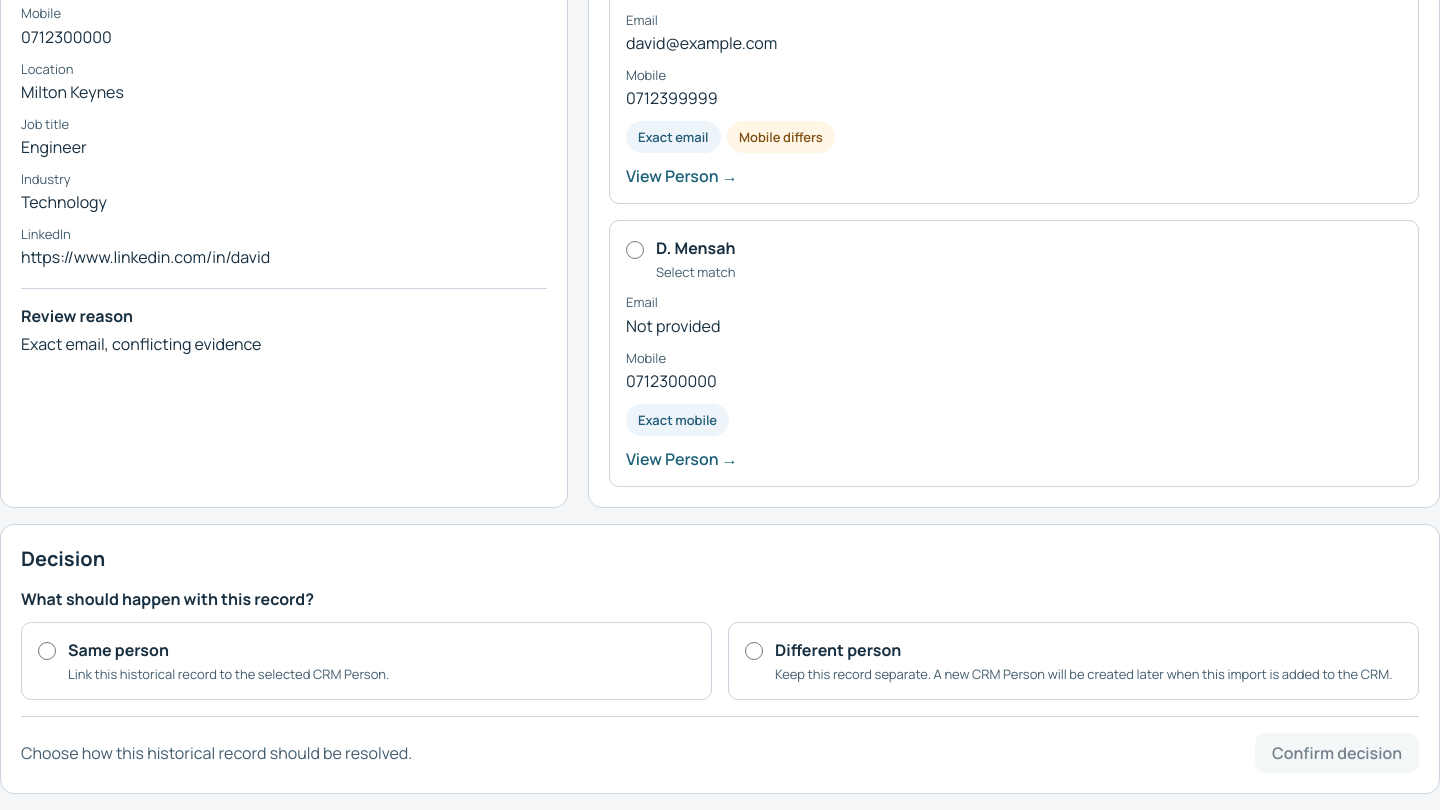
Scenario: ImportReviewPageComponent › displays a safe stale-review conflict without hiding the review record
(page scrolled)
Click the radio button named "decision" at (754, 651), box [745,642,763,660]
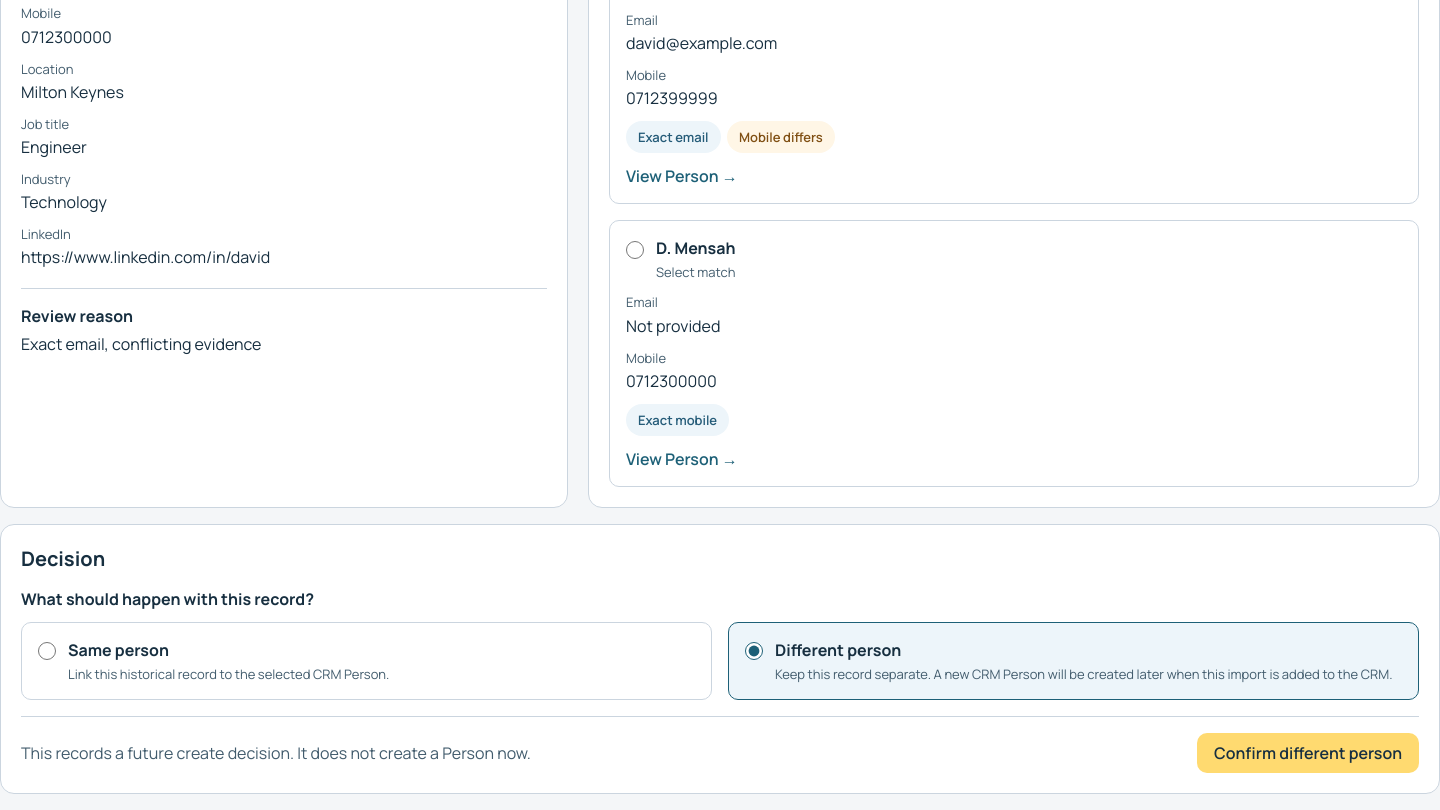
Click the button with class "confirm-decision" at (1308, 753), box [1197,733,1419,773]
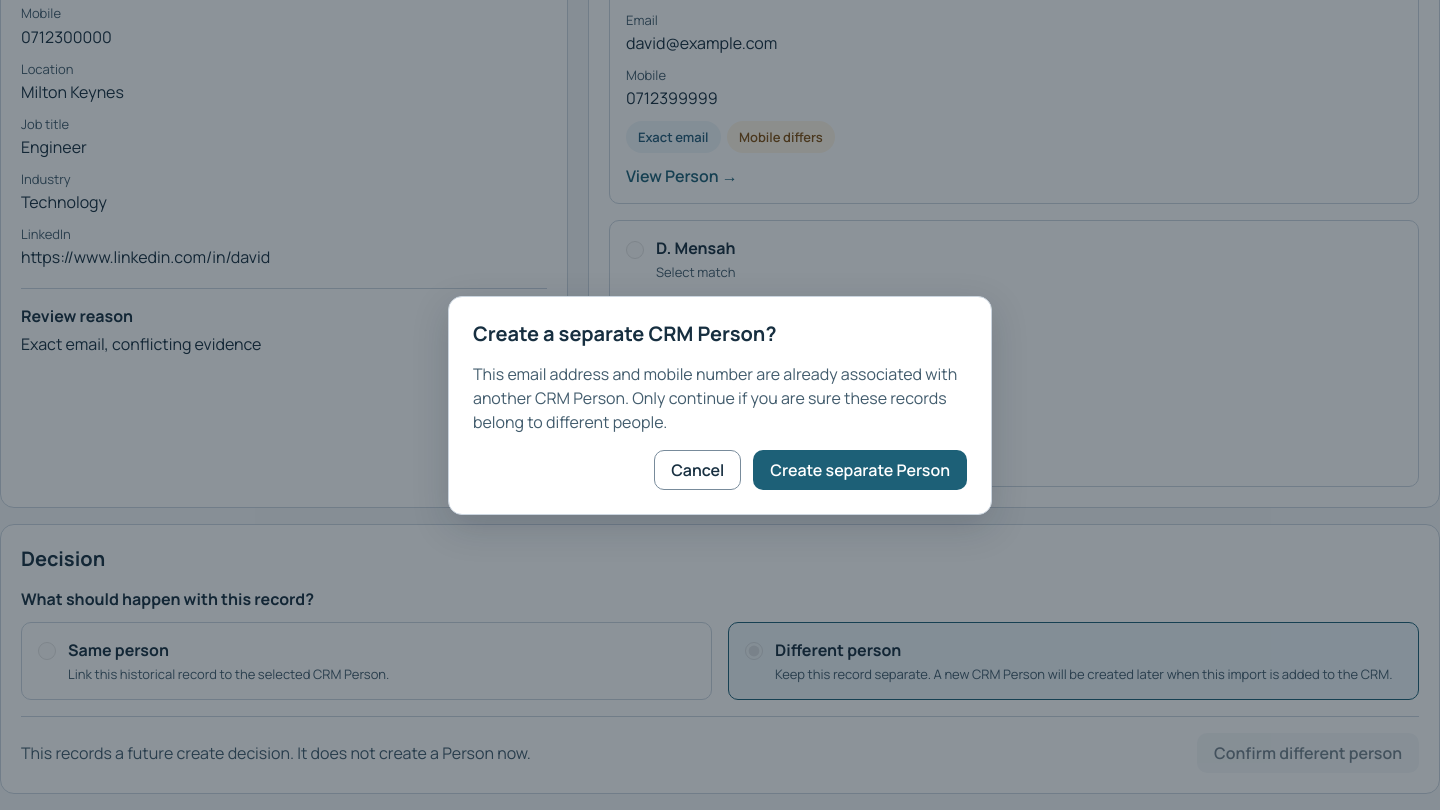
Click the button "Create separate Person" at (860, 470), box [753,450,967,490]
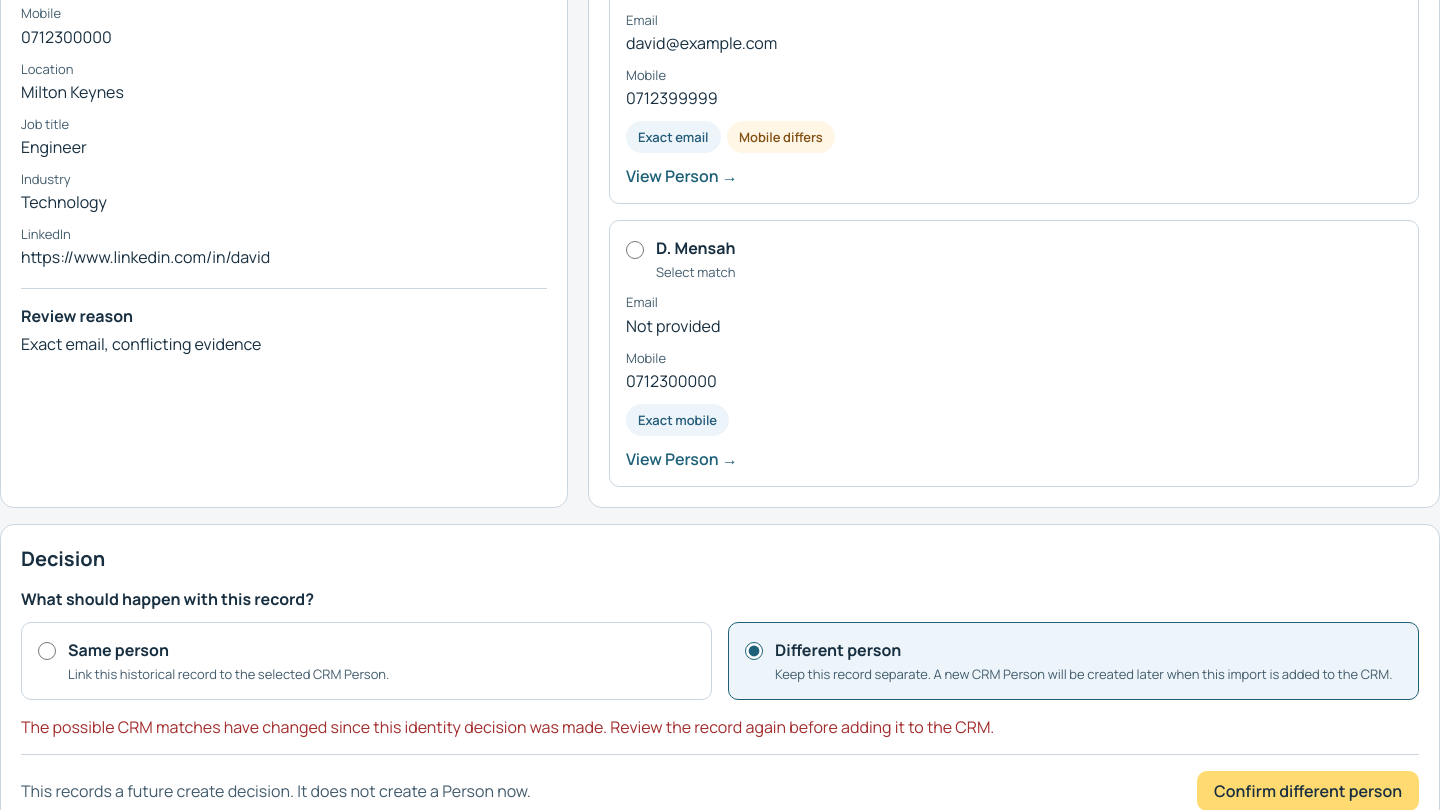
Check: the text "The possible CRM matches have changed since this identity decision was made." is shown, box [21,716,994,738]
